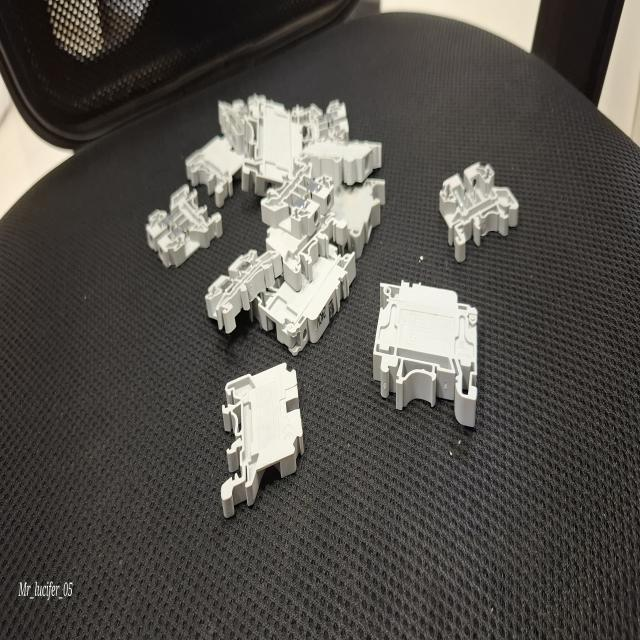Inverted: (216, 360, 306, 520)
Pass: (143, 172, 224, 276), (203, 246, 286, 336), (258, 152, 334, 238)
Reject: (436, 141, 524, 259)
